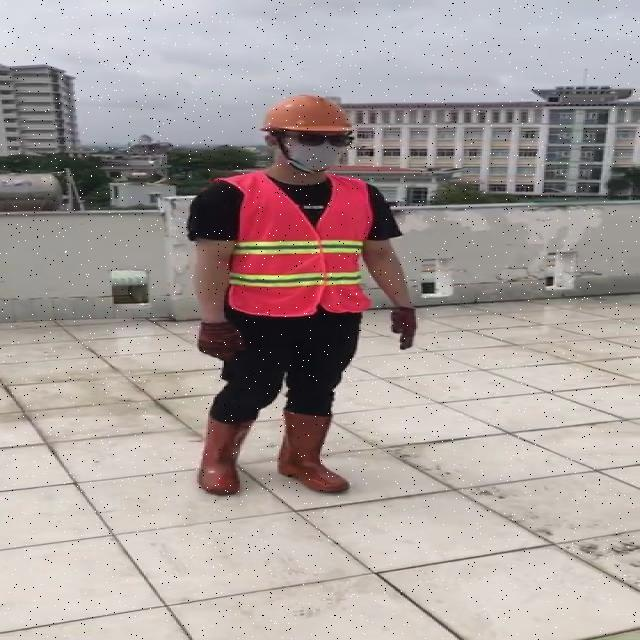Hard_hat: (252, 93, 359, 147)
Person: (181, 89, 427, 534)
Vest: (225, 167, 372, 316)
